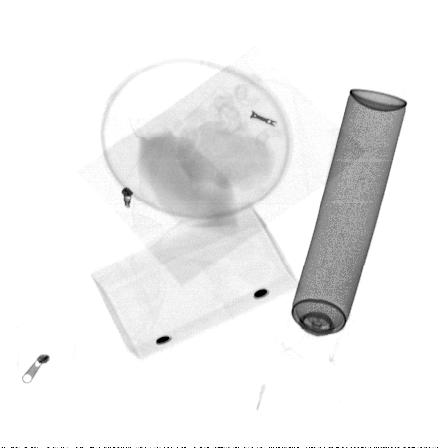Sprayer: (279, 87, 410, 369)
